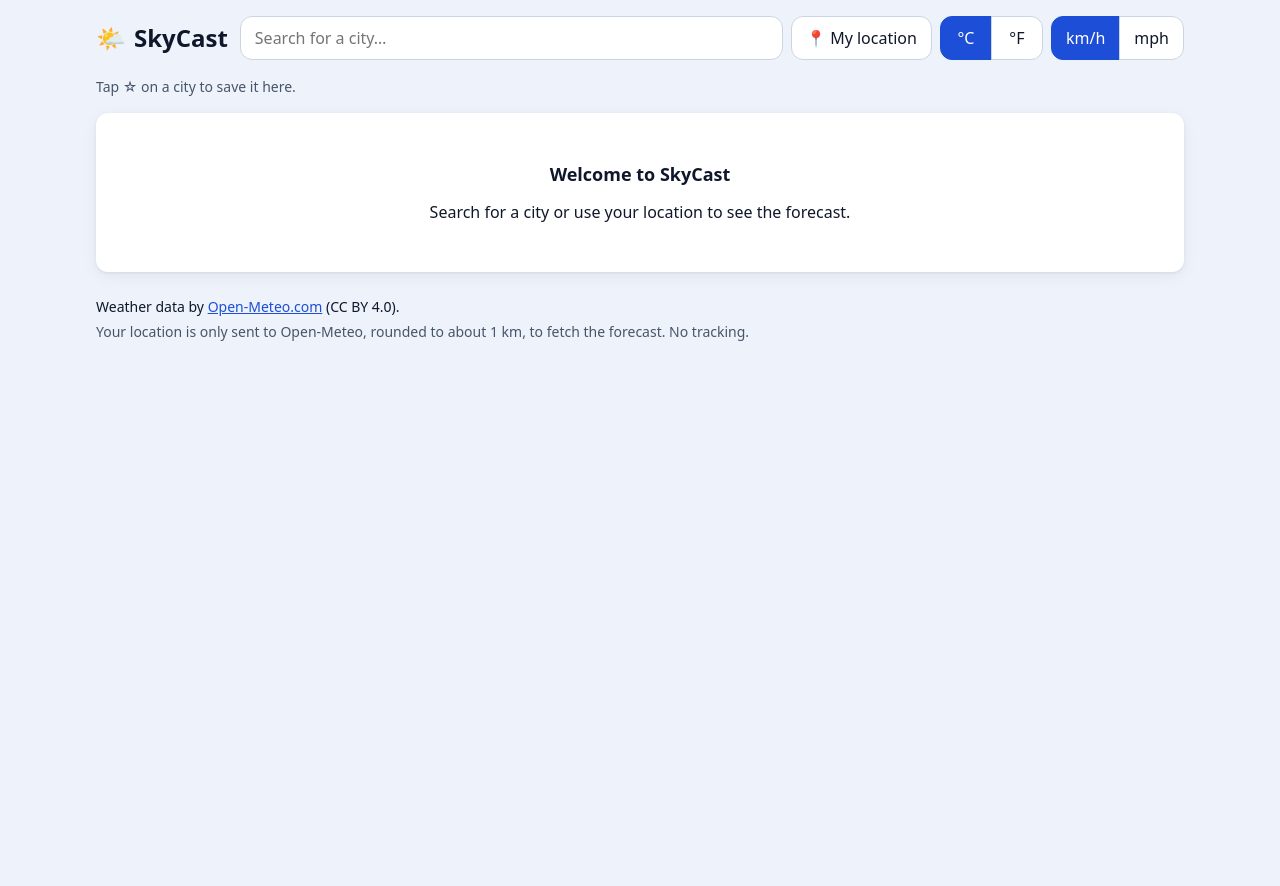
Test case: App › FR-5 loads the forecast for the current location
This screenshot has width=1280, height=886.
Click the button "📍 My location". click: {"x": 861, "y": 38}
box: [791,16,932,60]
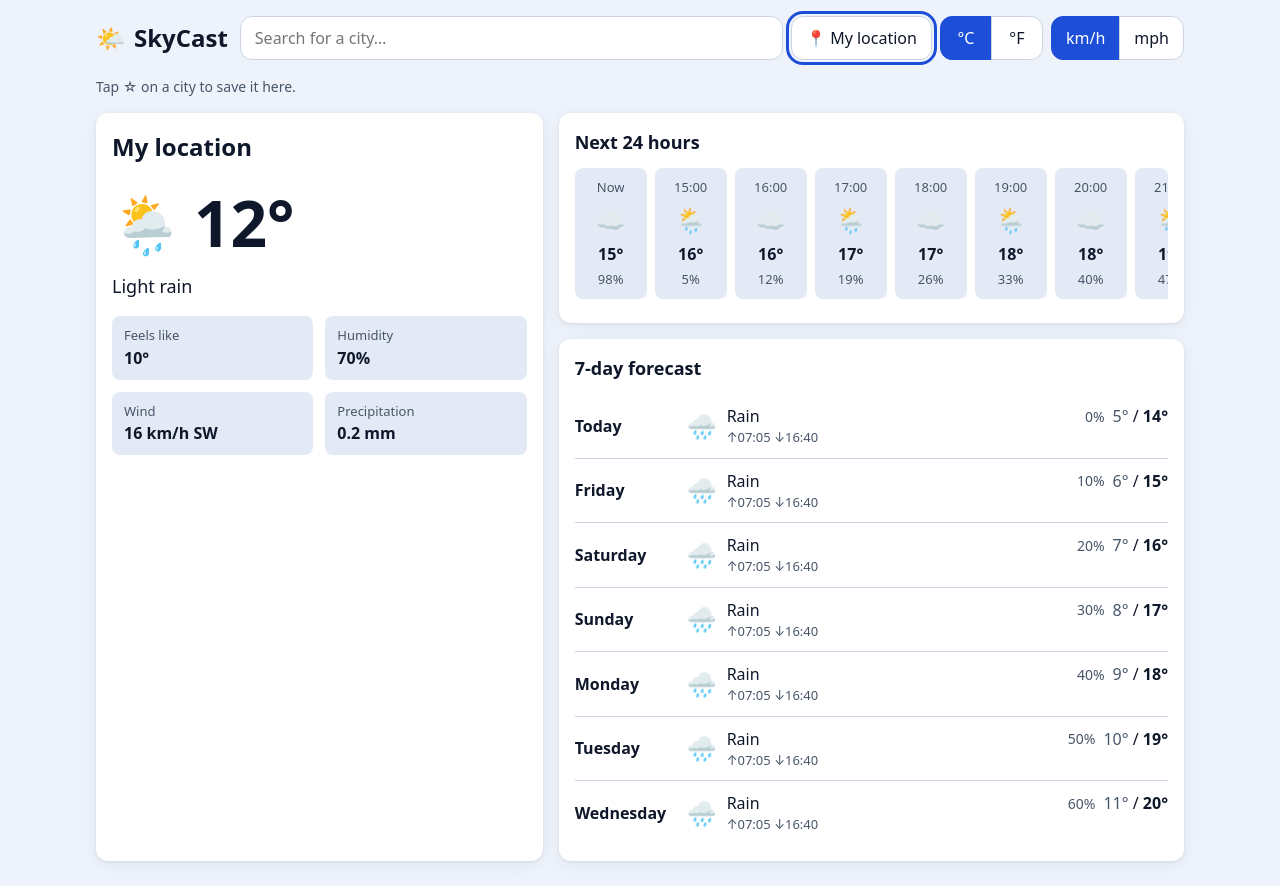
Check: the heading "My location" is shown, box [112,129,252,165]
